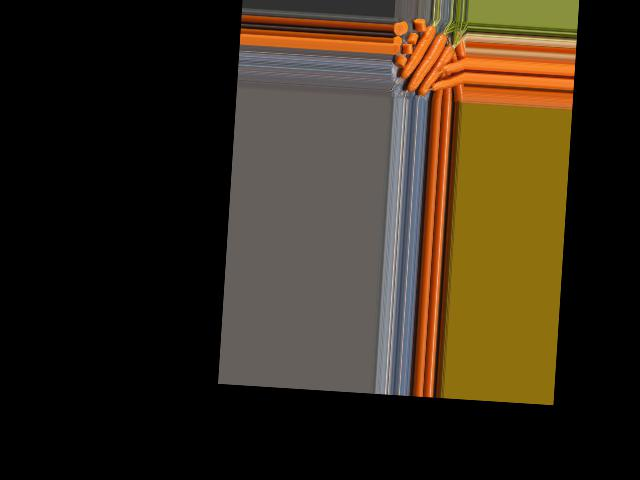carrot: (418, 43, 456, 99)
